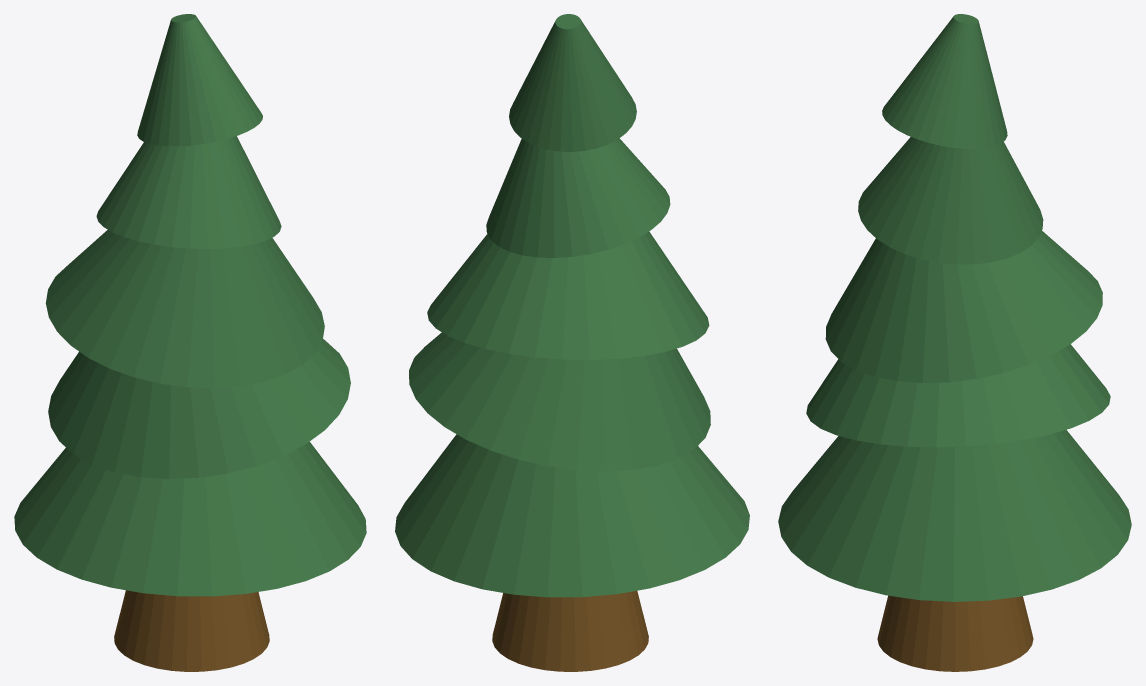
The model's file is pinheiro.fbx.
The picture shows the model from 3 angles, left to right: view 1: azimuth 30°, elevation 25°; view 2: azimuth 150°, elevation 25°; view 3: azimuth 270°, elevation 25°; orthographic projection.
Visible parts, largest first — view 1: Cylinder.017; view 2: Cylinder.017; view 3: Cylinder.017.
Part boxes in pixels (bbox=[...]): Cylinder.017: bbox=[14, 14, 366, 671]; Cylinder.017: bbox=[395, 14, 749, 671]; Cylinder.017: bbox=[778, 14, 1131, 671].
Bounding box in the file's own units: 231 × 447 × 231.
